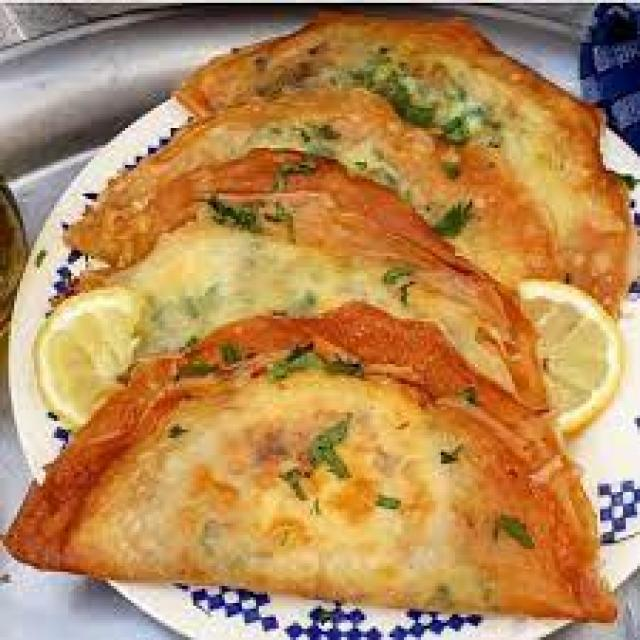brik: (0, 334, 609, 639), (60, 160, 560, 350), (196, 21, 626, 235)
